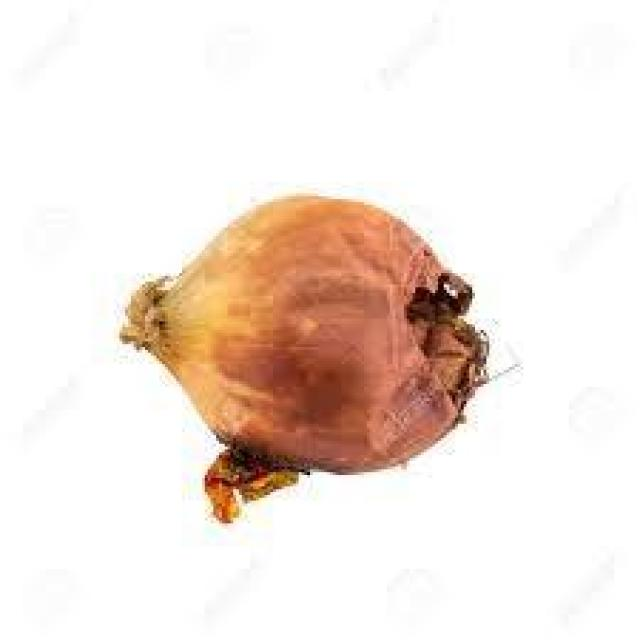Onion: (111, 196, 506, 518)
